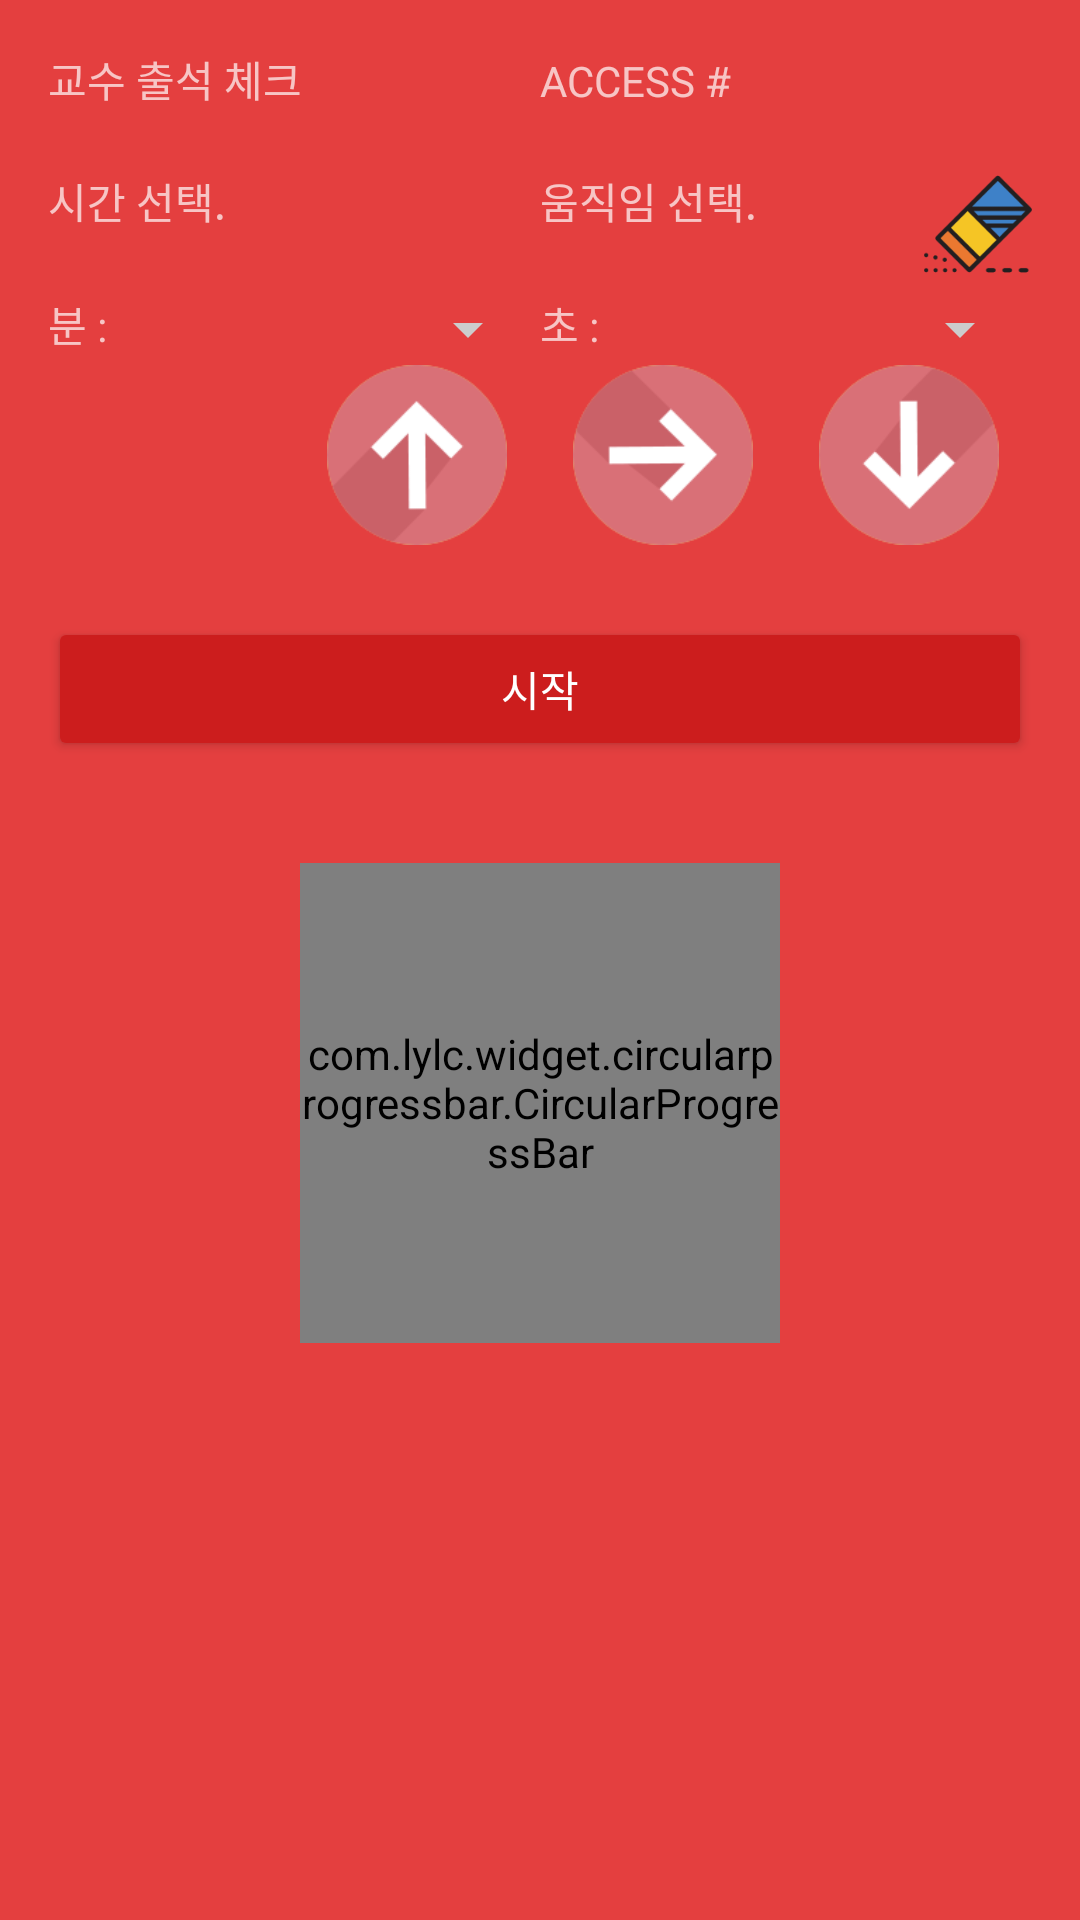

Locate icon controls on the screen. Image size 1080 x 1920, boxes as (left=x1, top=y1, right=x2, bottom=y2).
bottom: (left=819, top=365, right=999, bottom=545)
eraser: (left=924, top=175, right=1032, bottom=273)
right: (left=573, top=365, right=753, bottom=545)
top: (left=327, top=365, right=507, bottom=545)
